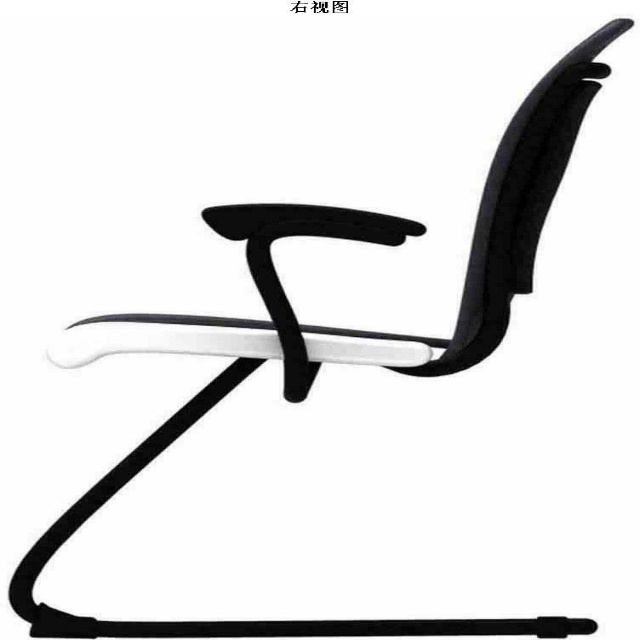obstacle: (3, 0, 637, 639)
